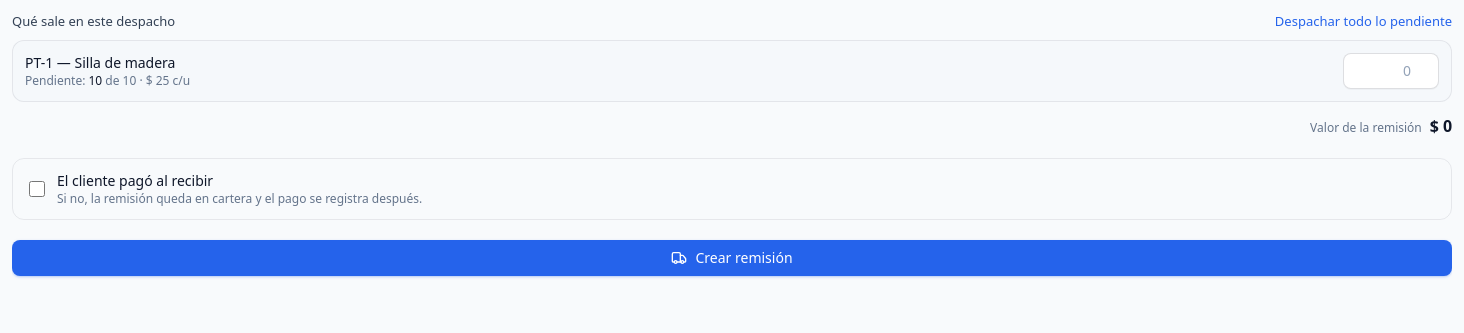
RemissionForm › requires at least one quantity to be entered
The image size is (1464, 333).
Click the button "Crear remisión". click: point(732, 258)
box: top-left (12, 240), bottom-right (1452, 276)
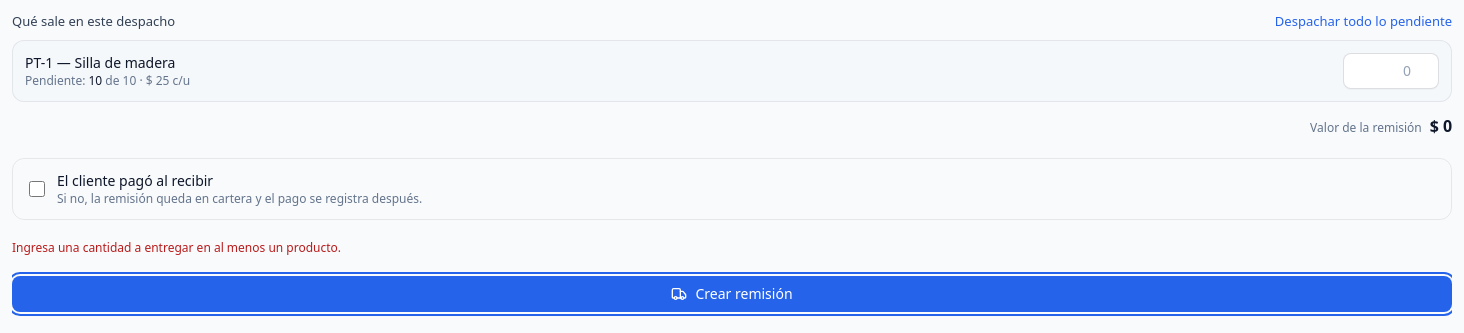
Expected: the text "Ingresa una cantidad a entregar en al menos un producto." is shown, top-left (12, 238), bottom-right (341, 256)
